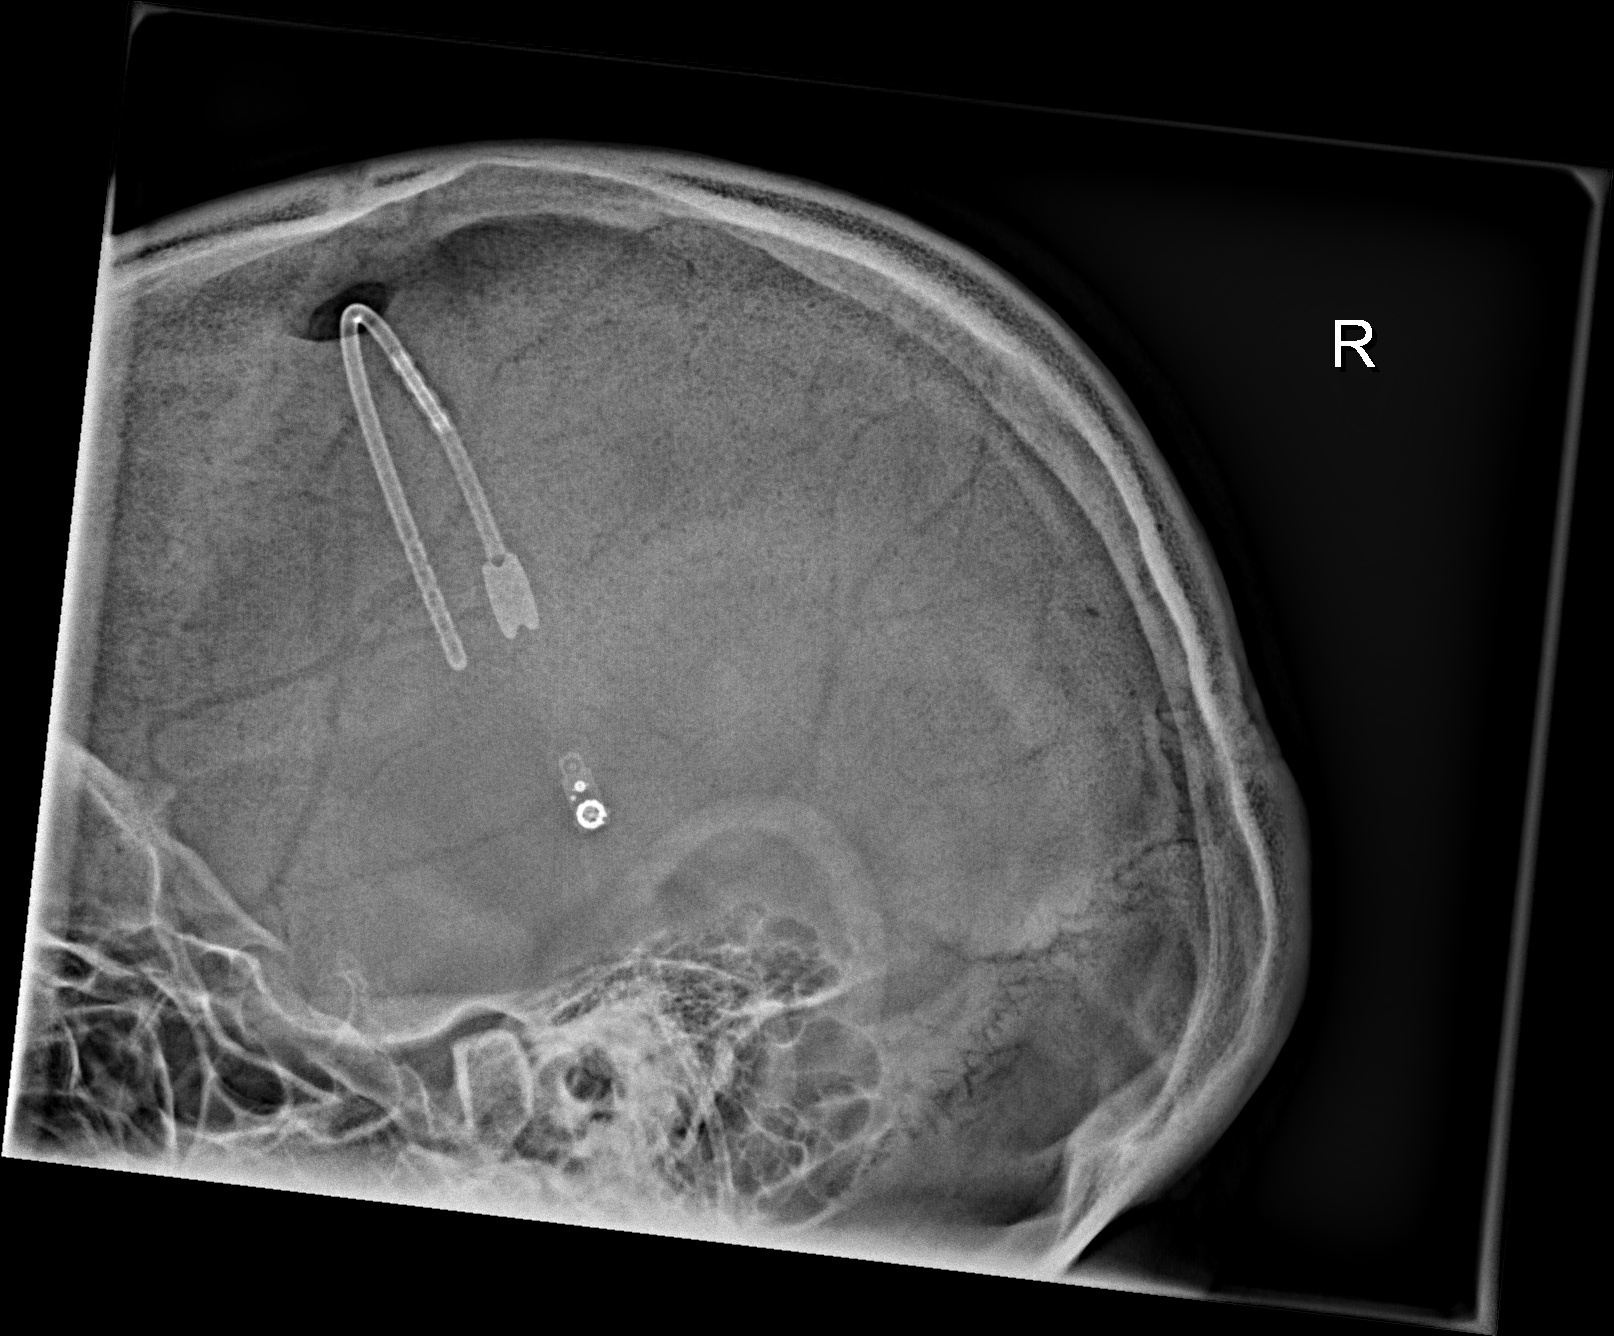Codman Hakim: (550, 744, 629, 847)
